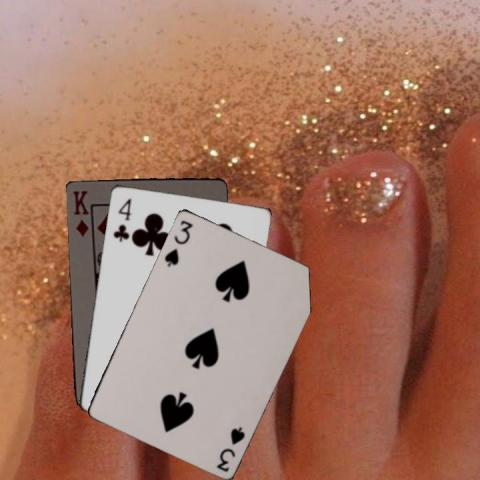3s: (213, 423, 247, 473), (161, 217, 194, 267)
4c: (110, 196, 133, 244)
Kd: (69, 187, 90, 238)
